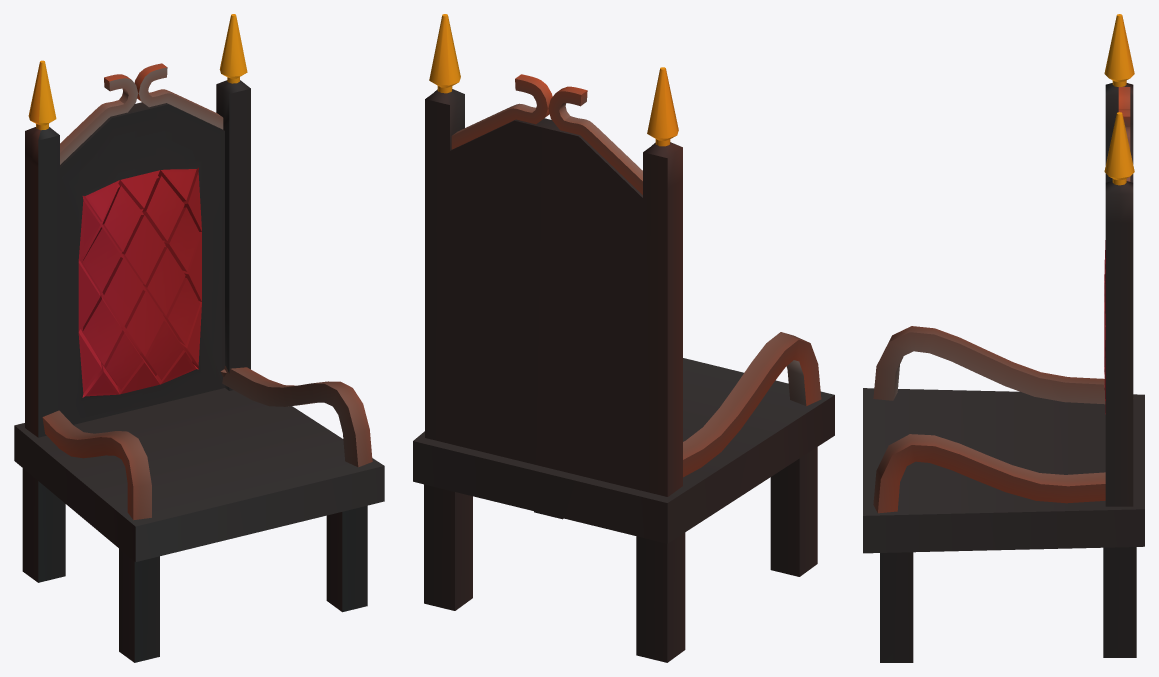
The model's file is Cadeira.fbx.
The picture shows the model from 3 angles, left to right: view 1: azimuth 30°, elevation 25°; view 2: azimuth 150°, elevation 25°; view 3: azimuth 270°, elevation 25°; orthographic projection. The views are drawn at different scales.
Parts seen in each view (by area): view 1: Chair, Braços, Adornos; view 2: Chair, Braços, Adornos; view 3: Chair, Braços, Adornos.
Boxes of the visible parts, x1,y1,x2,y2 form: Chair: (14, 14, 384, 662); Braços: (42, 366, 372, 520); Adornos: (60, 63, 223, 164); Chair: (413, 14, 834, 662); Braços: (683, 332, 821, 477); Adornos: (451, 74, 642, 194); Chair: (863, 14, 1144, 662); Braços: (873, 326, 1105, 513); Adornos: (1118, 87, 1130, 181).
Bounding box in the file's own units: 1.47 × 2.89 × 1.37.
